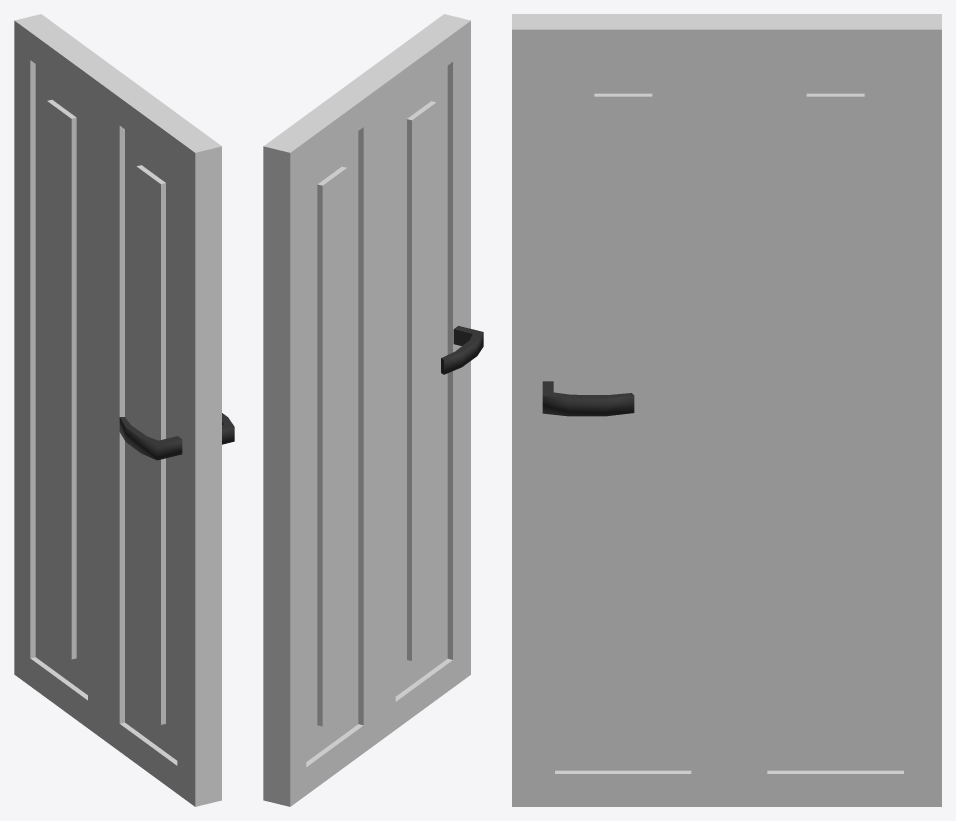
Rendered from main_laundry_door.gltf.
The picture shows the model from 3 angles, left to right: view 1: azimuth 30°, elevation 25°; view 2: azimuth 150°, elevation 25°; view 3: azimuth 270°, elevation 25°; orthographic projection. The views are drawn at different scales.
Visible parts, largest first — view 1: Door 1.003, Door Handle 1.003; view 2: Door 1.003, Door Handle 1.003; view 3: Door 1.003, Door Handle 1.003.
Boxes of the visible parts, bbox=[...] form: Door 1.003: bbox=[14, 14, 221, 806]; Door Handle 1.003: bbox=[119, 413, 234, 460]; Door 1.003: bbox=[263, 14, 470, 806]; Door Handle 1.003: bbox=[441, 326, 483, 374]; Door 1.003: bbox=[512, 14, 941, 806]; Door Handle 1.003: bbox=[542, 381, 634, 416].
Size of the model in its own units: 0.2819 by 2.02 by 1.01.
1 material, 1 textured.
